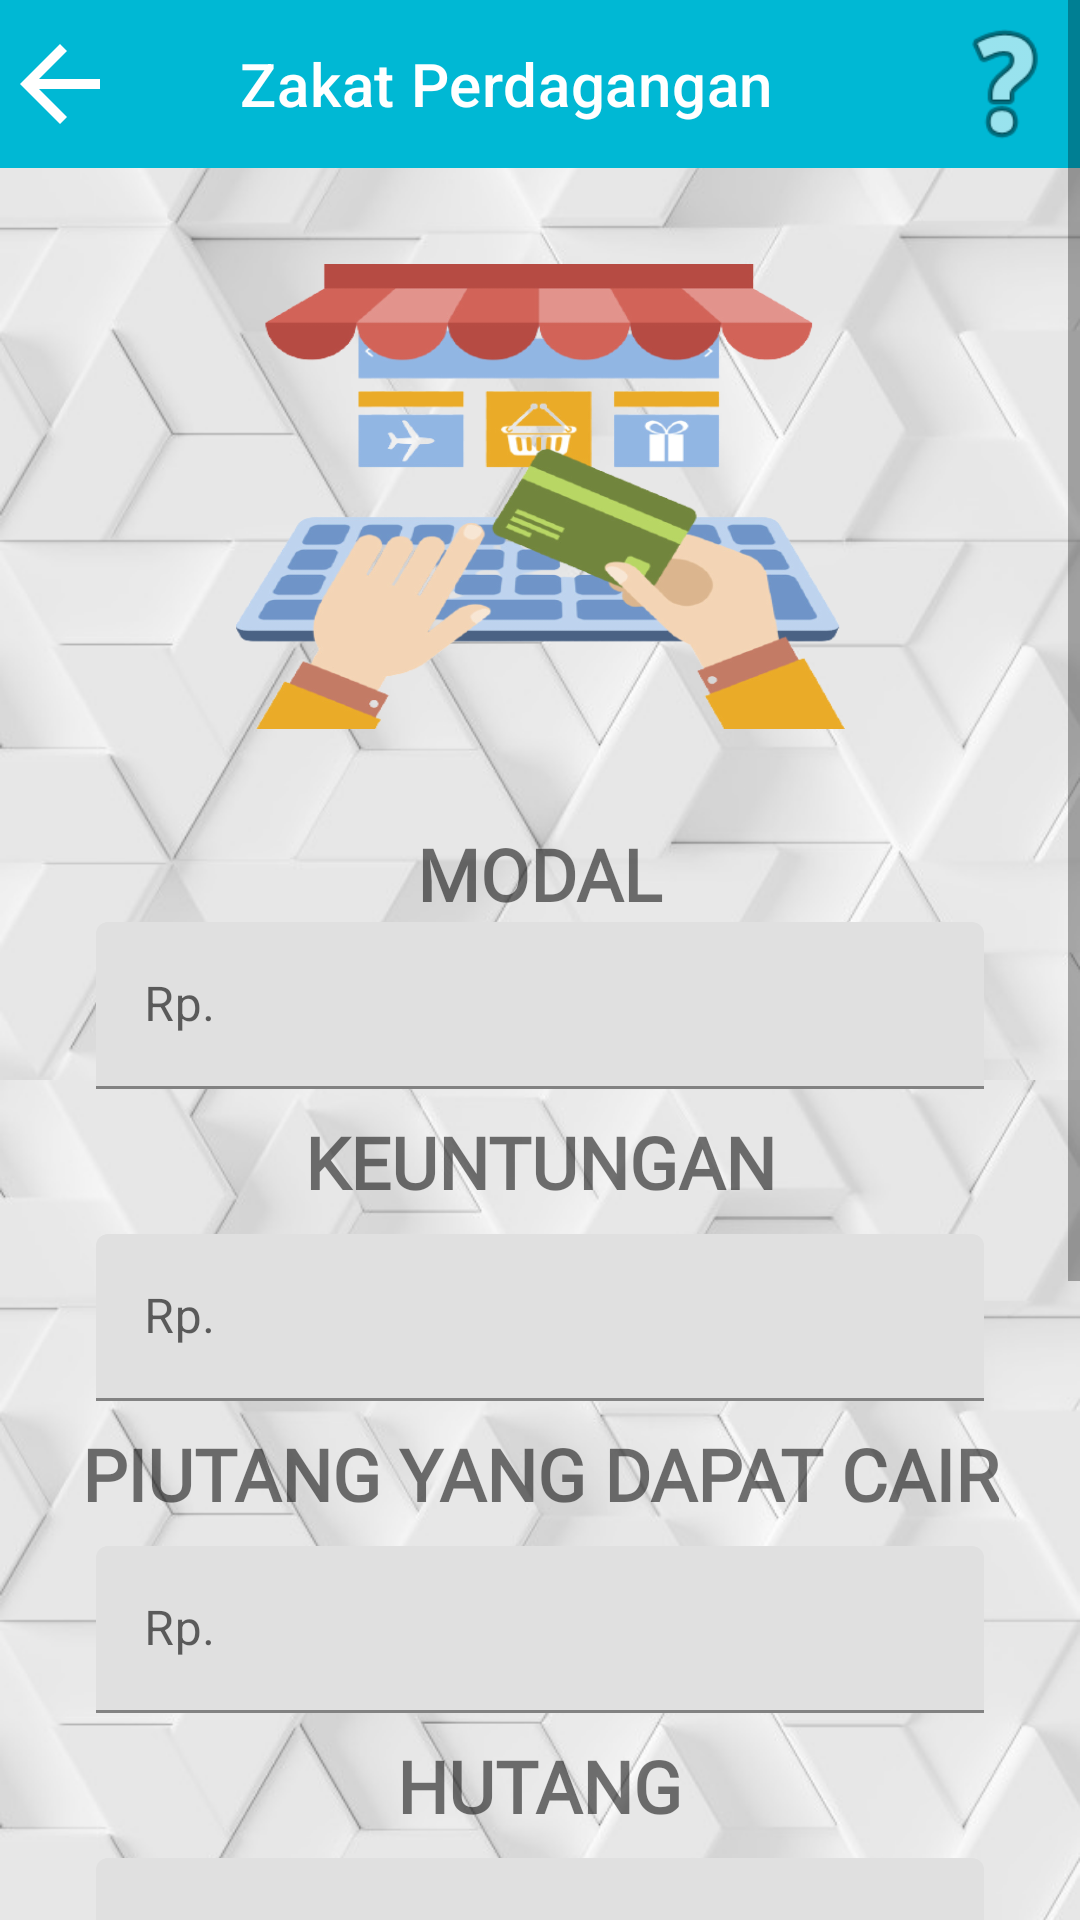

Where to tap for icons on this 1080 x 1920 app screen, as (x,y):
help: (1005,84)
